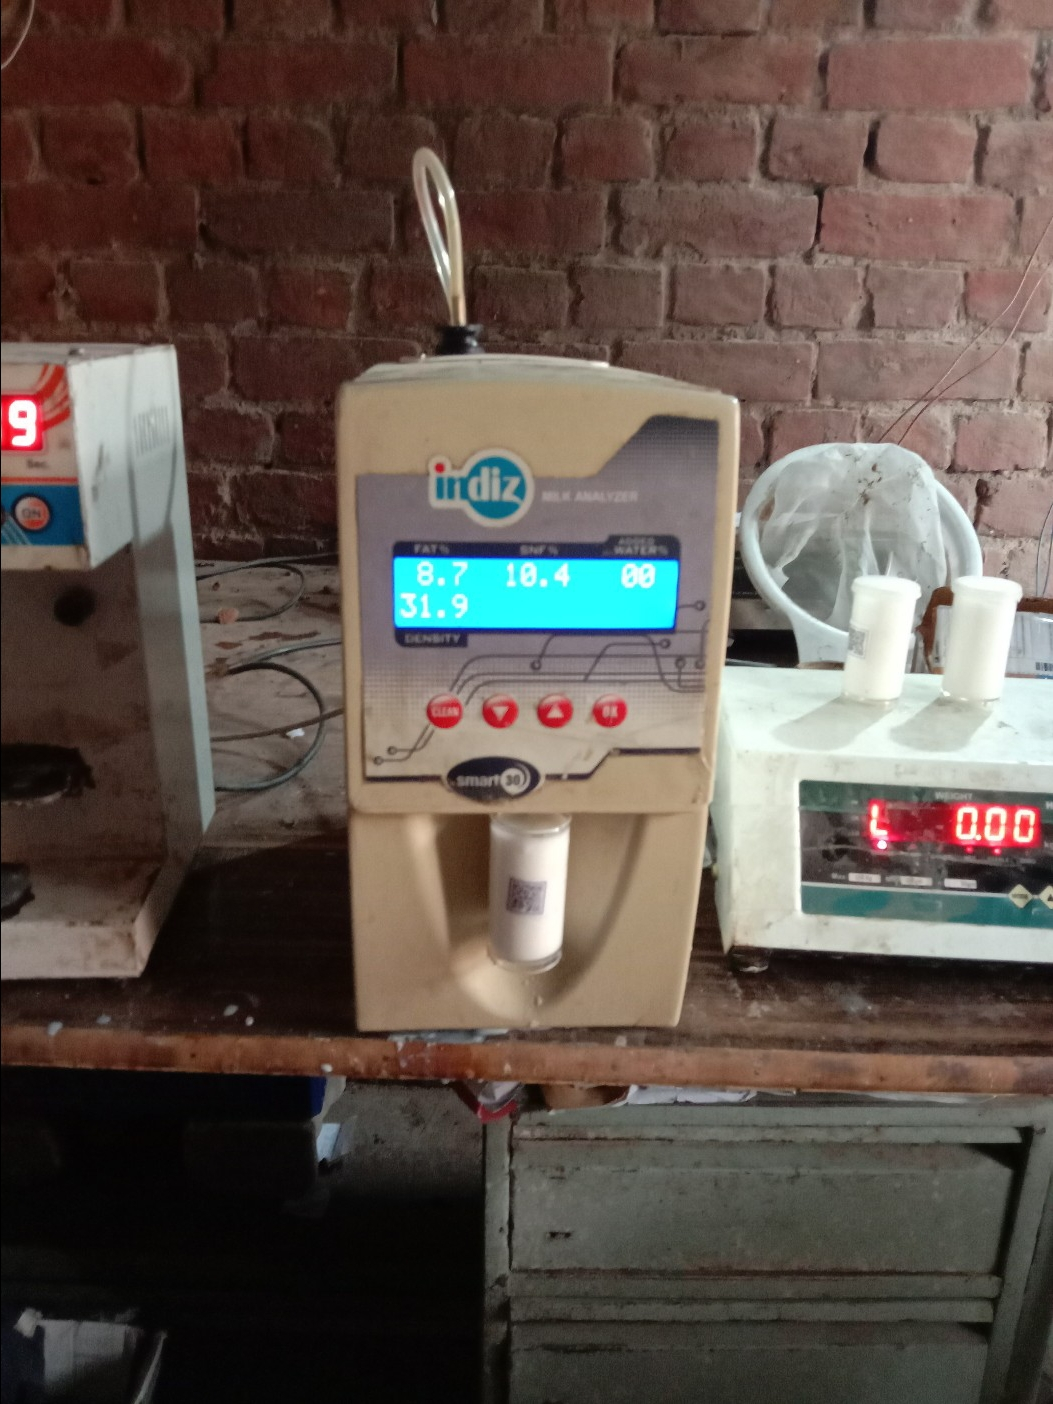lcd: (390, 552, 681, 635)
qr: (502, 874, 553, 914)
